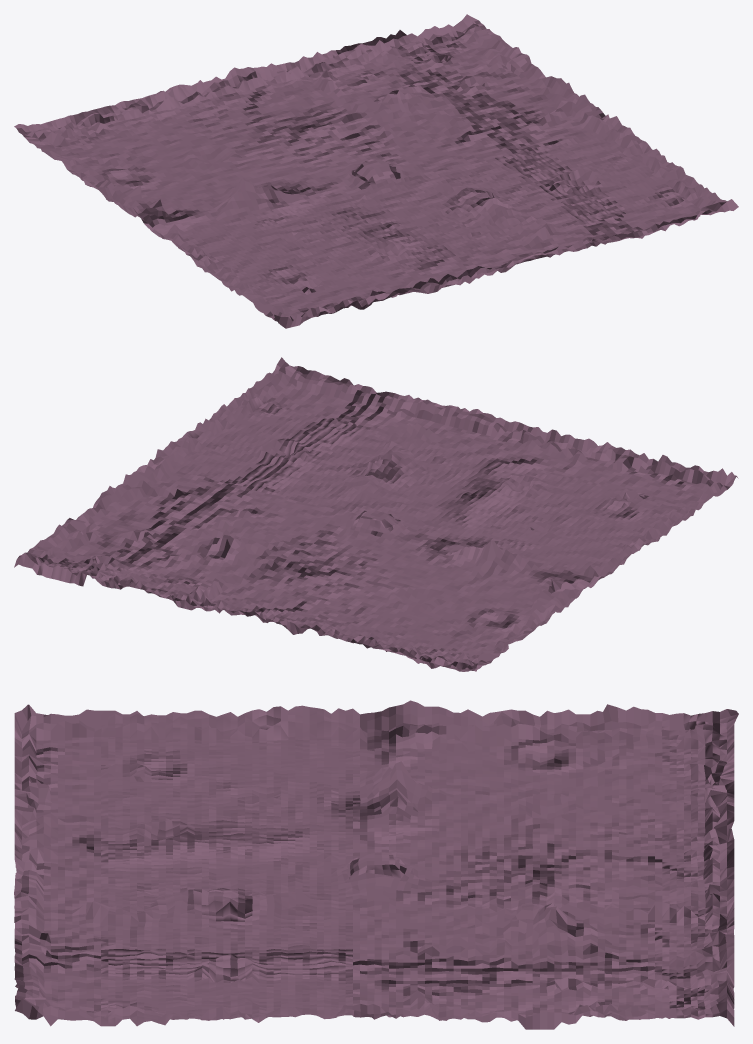
Rendered from enviroment_ggj_marsc4d_twee.fbx.
The picture shows the model from 3 angles, top to bottom: view 1: azimuth 30°, elevation 25°; view 2: azimuth 150°, elevation 25°; view 3: azimuth 270°, elevation 25°; orthographic projection. The views are drawn at different scales.
Visible parts, largest first — view 1: Plane; view 2: Plane; view 3: Plane.
Part boxes in pixels (left/top/right/bottom): Plane: left=14, top=14, right=738, bottom=328; Plane: left=14, top=357, right=738, bottom=671; Plane: left=14, top=700, right=738, bottom=1029.
Bounding box in the file's own units: 50223 × 3327 × 50378.
